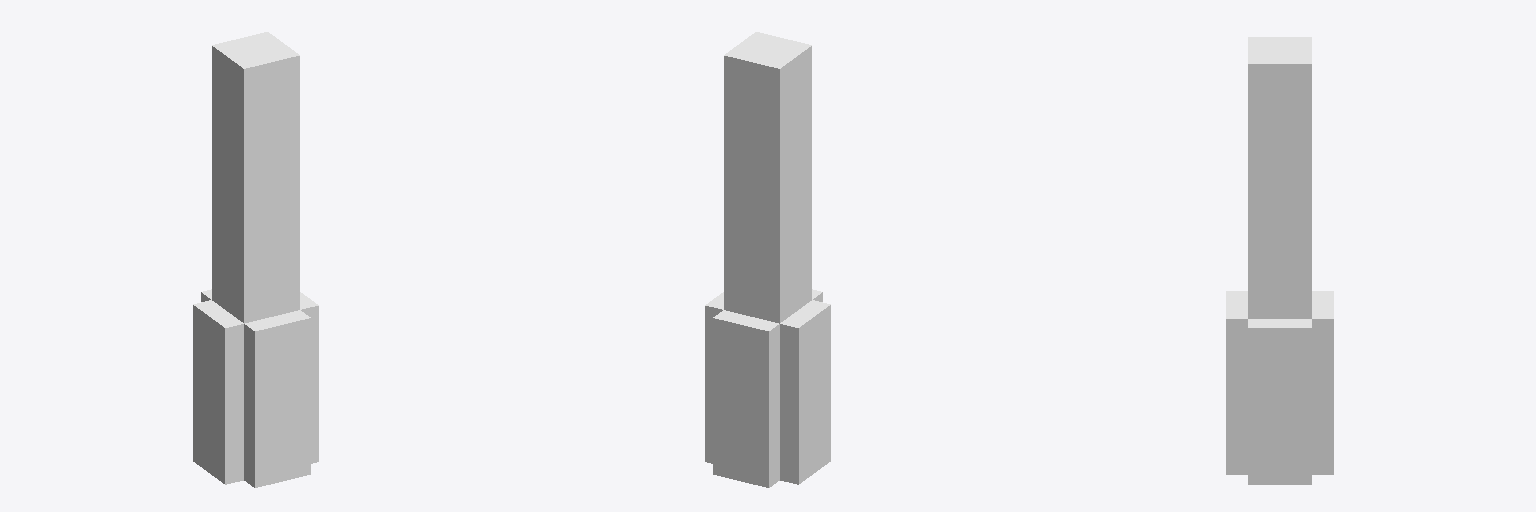
The model's file is human1_arm2.obj.
The picture shows the model from 3 angles: view 1: azimuth 30°, elevation 25°; view 2: azimuth 150°, elevation 25°; view 3: azimuth 270°, elevation 25°; orthographic projection.
Visible parts, largest first — view 1: human1_arm2; view 2: human1_arm2; view 3: human1_arm2.
Part boxes in pixels (x1,y1,x2,y2): human1_arm2: (193,32,318,487); human1_arm2: (705,32,830,487); human1_arm2: (1226,37,1333,484).
Size of the model in its own units: 5 by 21 by 5.